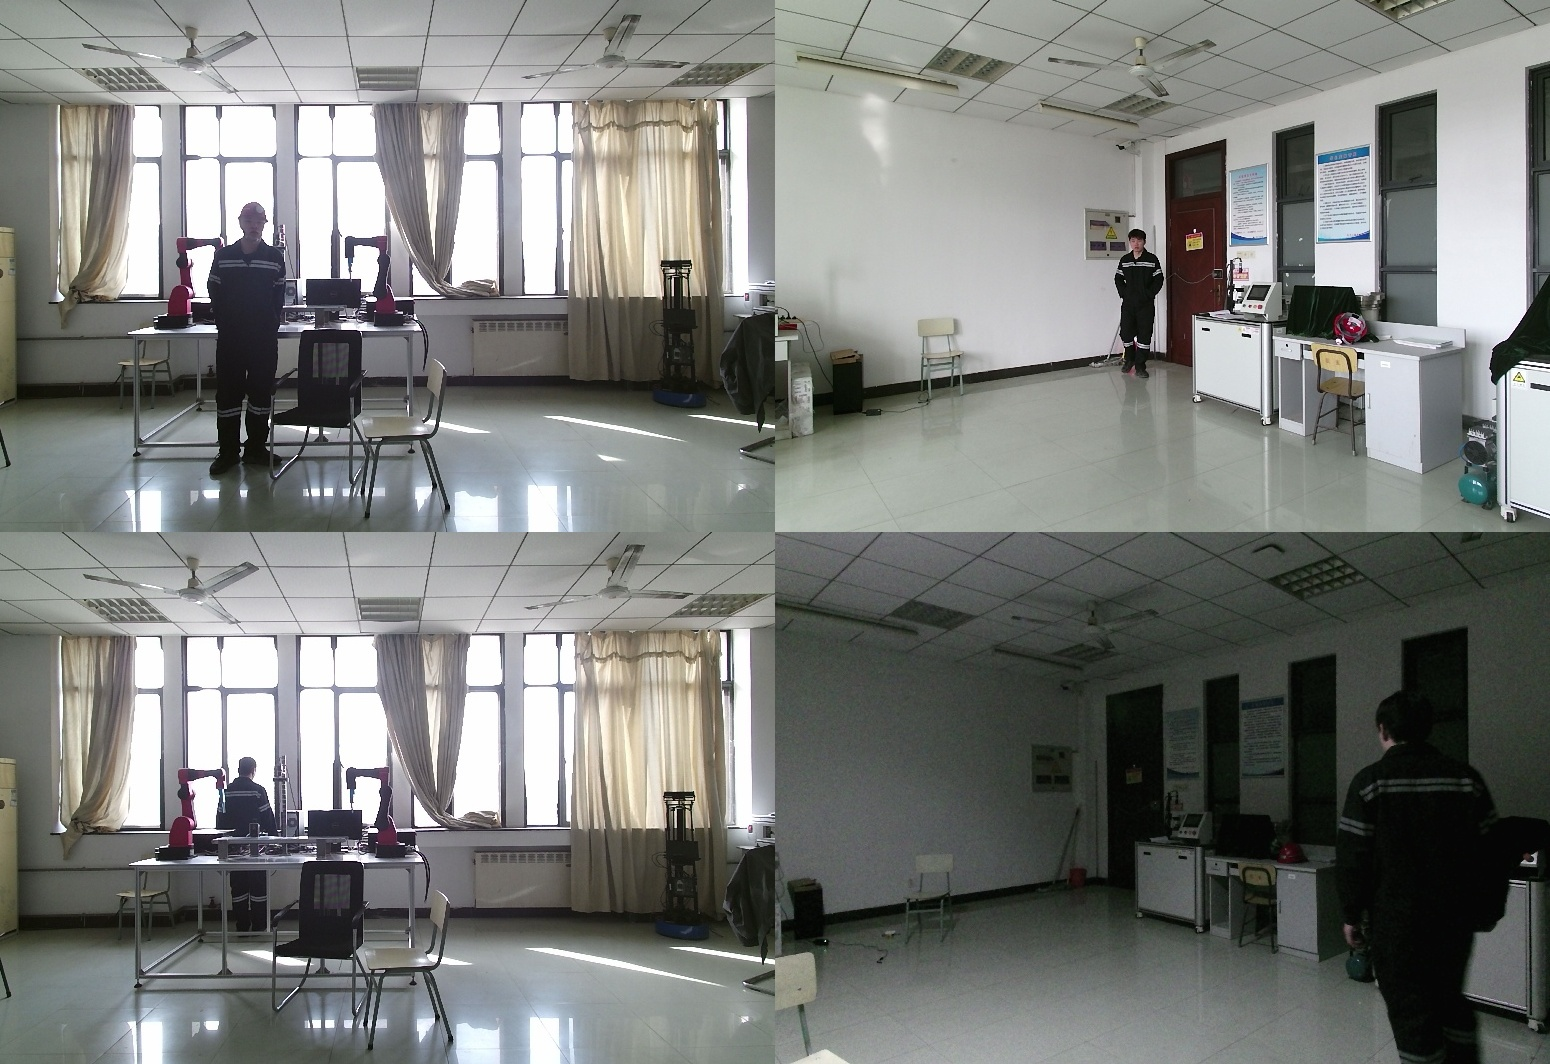person: (1348, 688, 1540, 1064), (206, 202, 290, 479), (218, 760, 278, 942), (1111, 229, 1163, 382)
